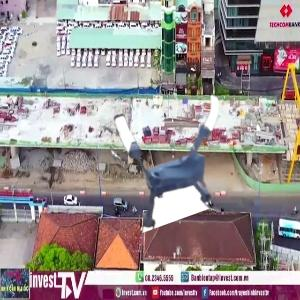drone: (116, 91, 243, 218)
